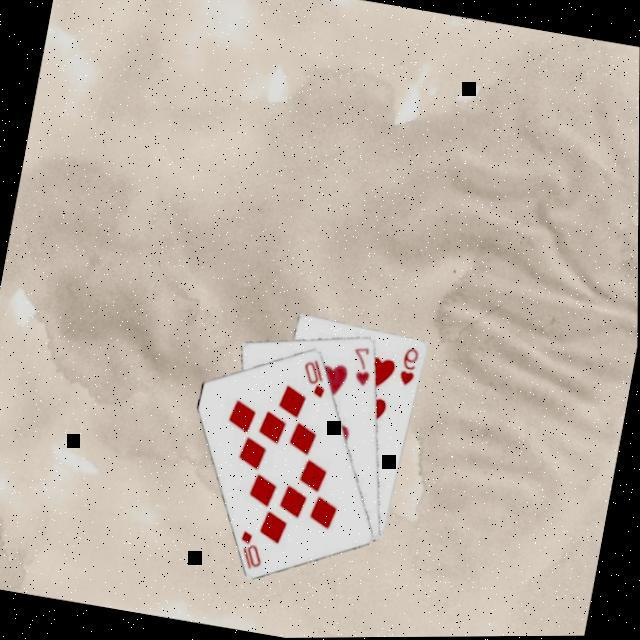10D: (297, 356, 334, 404), (233, 527, 270, 575)
7H: (346, 344, 378, 392)
9H: (396, 346, 423, 392)
